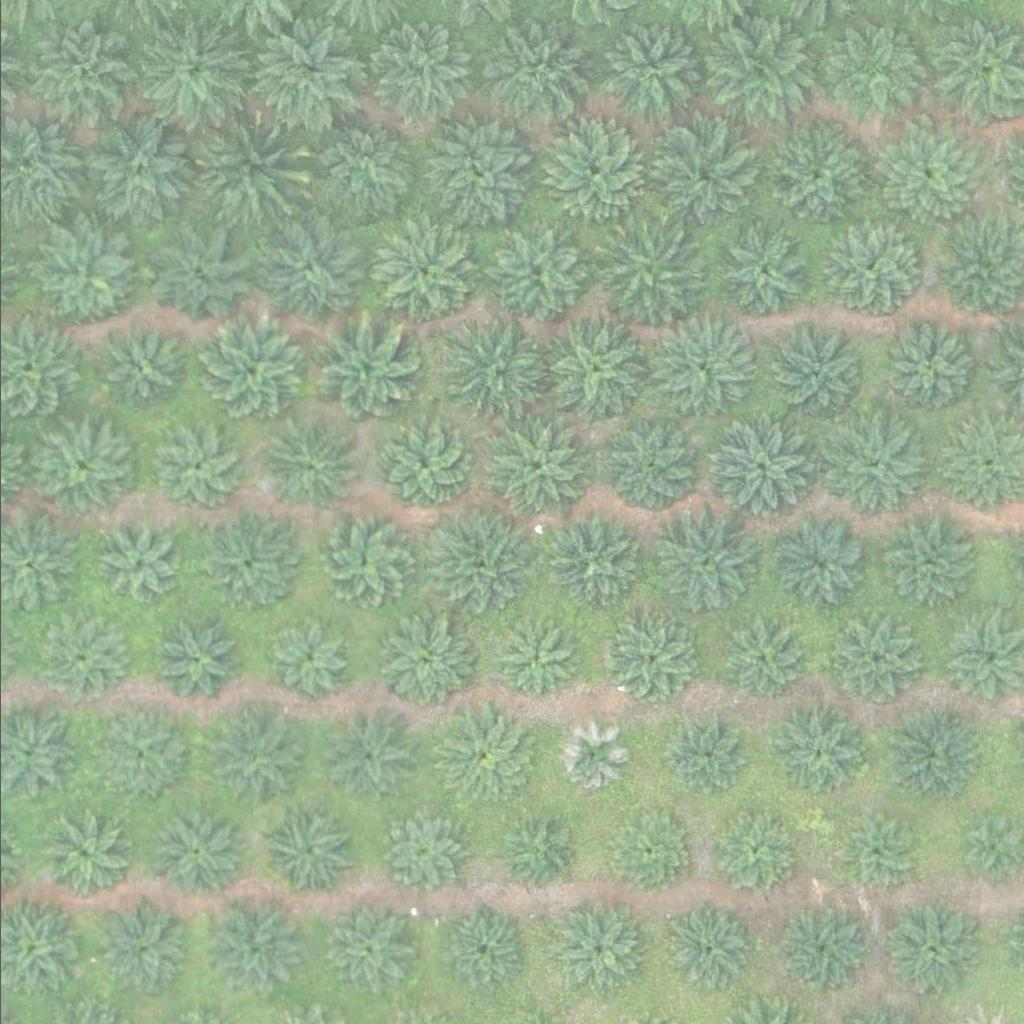Kelapa_Sawit: (869, 119, 983, 232), (757, 123, 871, 236), (593, 220, 707, 333), (536, 312, 650, 425), (437, 320, 551, 433), (363, 18, 476, 131), (647, 507, 760, 620), (306, 314, 419, 427), (196, 316, 309, 429), (83, 115, 196, 228), (249, 20, 362, 133), (136, 11, 249, 124), (19, 17, 132, 130), (643, 310, 757, 422), (421, 507, 535, 619), (700, 21, 813, 133), (592, 19, 705, 131), (643, 123, 756, 235), (419, 122, 532, 234), (703, 414, 816, 526), (303, 113, 416, 225), (188, 112, 301, 224), (480, 27, 581, 127), (544, 125, 645, 225), (487, 227, 588, 327), (871, 323, 972, 423), (765, 325, 866, 425), (827, 418, 928, 518), (875, 512, 976, 612), (767, 515, 868, 615), (543, 513, 644, 613), (434, 711, 535, 811), (200, 894, 301, 994), (369, 799, 470, 899), (259, 799, 360, 899), (319, 705, 420, 805), (259, 416, 360, 516), (31, 417, 132, 517), (372, 220, 473, 320), (260, 217, 361, 317), (144, 226, 245, 326), (34, 227, 135, 327), (821, 31, 921, 131), (822, 222, 922, 322), (711, 225, 811, 325), (600, 417, 700, 517), (483, 419, 583, 519), (880, 901, 980, 1001), (204, 708, 304, 808), (376, 613, 476, 713), (314, 512, 414, 612), (198, 516, 298, 616), (373, 416, 473, 516), (825, 617, 914, 705), (601, 807, 690, 895), (434, 909, 523, 997), (495, 808, 583, 896), (883, 711, 971, 799), (770, 708, 858, 796), (704, 810, 792, 898), (321, 904, 409, 992), (96, 903, 184, 991), (259, 616, 347, 704), (95, 325, 183, 413), (712, 614, 800, 701), (602, 617, 690, 704), (775, 906, 863, 993), (659, 905, 747, 992), (549, 906, 637, 993), (148, 808, 236, 895), (37, 811, 125, 898), (88, 711, 176, 798), (96, 523, 184, 610), (152, 425, 240, 512), (497, 623, 573, 698), (154, 625, 230, 700), (43, 623, 119, 698), (833, 813, 908, 888), (665, 717, 740, 792), (551, 719, 626, 794)
